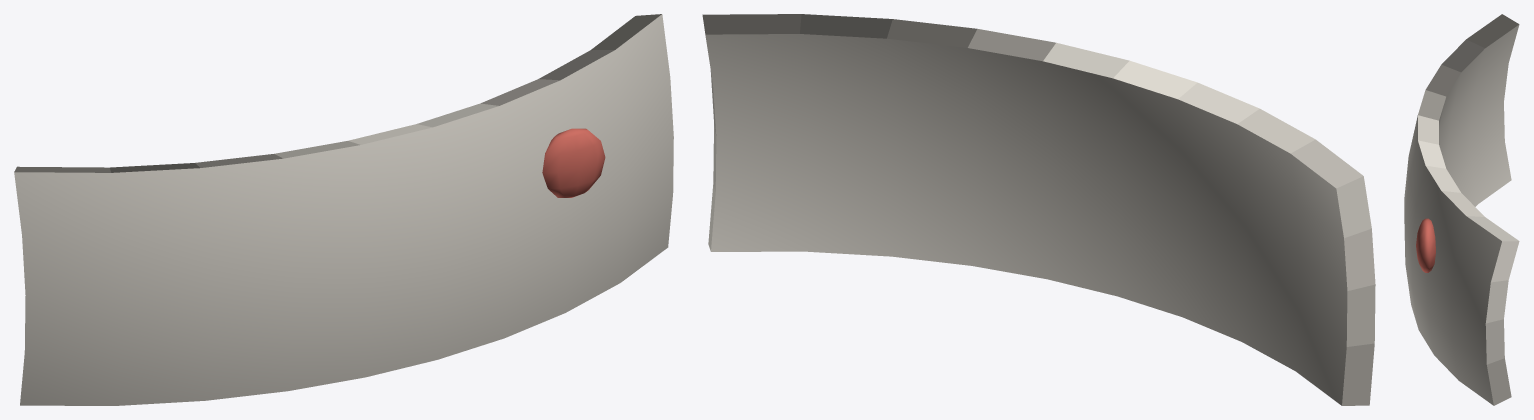
Rendered from elegant_masquerade_mask.glb.
3 views of the same model, side by side, from view 1: azimuth 30°, elevation 25°; view 2: azimuth 150°, elevation 25°; view 3: azimuth 270°, elevation 25° (orthographic). The views are drawn at different scales.
Visible parts, largest first — view 1: elegant_masquerade_mask_Head; view 2: elegant_masquerade_mask_Head; view 3: elegant_masquerade_mask_Head.
Boxes of the visible parts, <box> form: elegant_masquerade_mask_Head: <box>14,14,673,405</box>; elegant_masquerade_mask_Head: <box>702,14,1375,405</box>; elegant_masquerade_mask_Head: <box>1404,14,1519,405</box>.
Bounding box in the file's own units: 0.3915 × 0.1323 × 0.0837.
